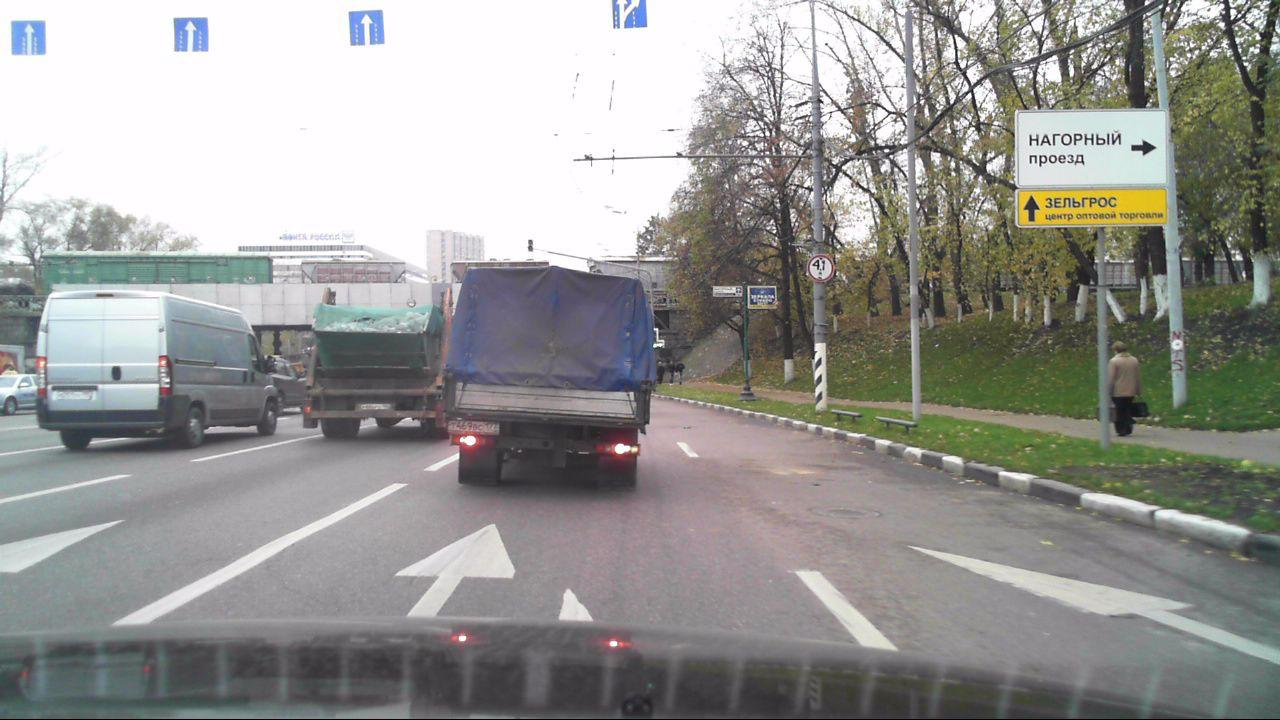3_13: (806, 253, 836, 281)
5_15_2: (345, 8, 386, 47), (172, 15, 211, 54), (9, 18, 48, 56), (613, 0, 648, 29)
